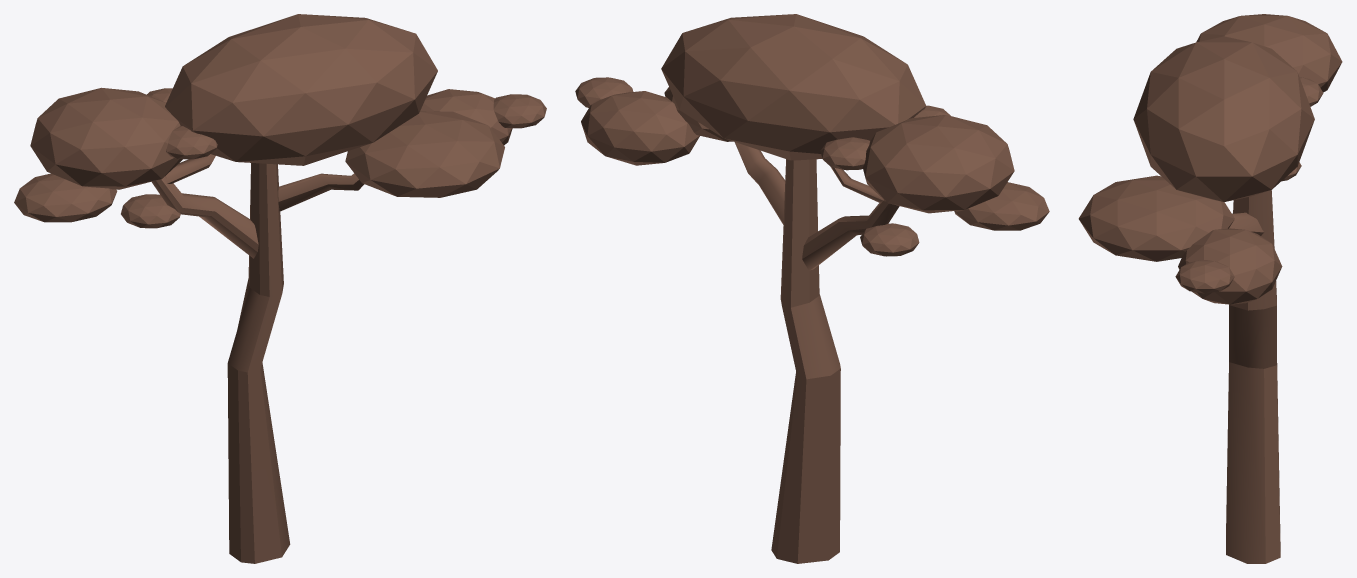
The model's file is alttreenew.fbx.
The picture shows the model from 3 angles, left to right: view 1: azimuth 30°, elevation 25°; view 2: azimuth 150°, elevation 25°; view 3: azimuth 270°, elevation 25°; orthographic projection. The views are drawn at different scales.
Visible parts, largest first — view 1: Cube; view 2: Cube; view 3: Cube.
Boxes of the visible parts, box(x1,y1,x2,y2) form: Cube: box(14, 14, 546, 563); Cube: box(575, 14, 1049, 563); Cube: box(1078, 14, 1342, 563).
Bounding box in the file's own units: 348 × 350 × 166.
